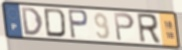9: (93, 12, 112, 41)
D: (43, 8, 68, 39), (20, 6, 45, 37)
P: (67, 8, 90, 40), (113, 12, 136, 43)
R: (135, 12, 162, 45)
